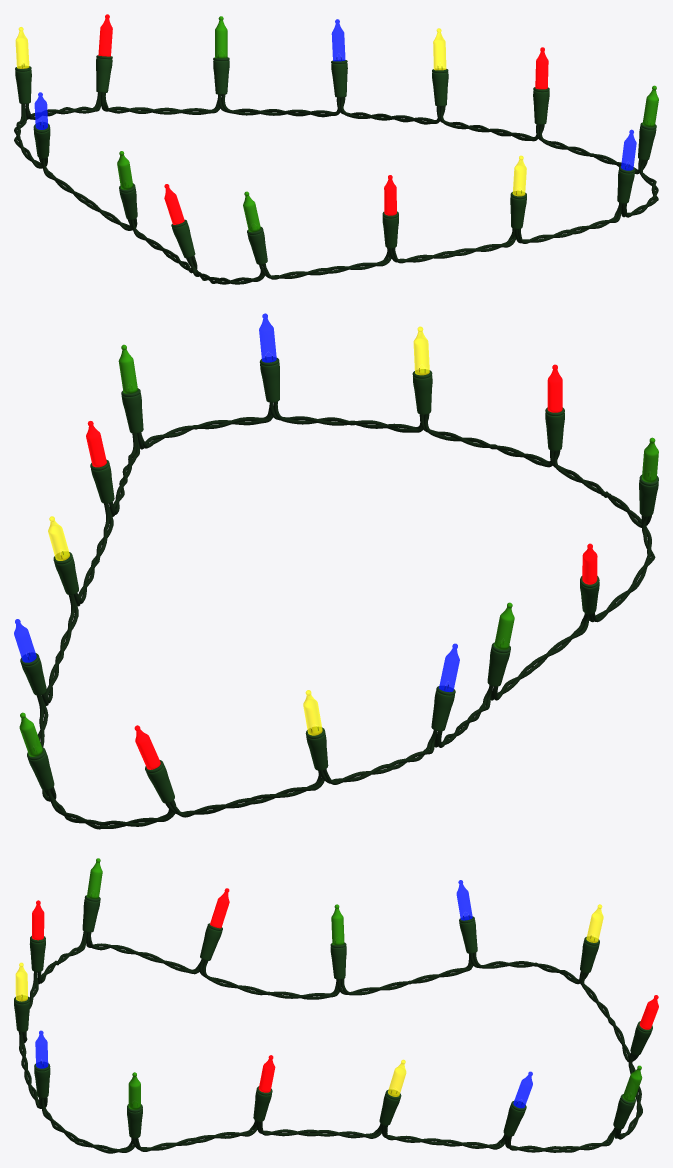
Rendered from christmas_lights_ring.glb.
3 renders of one model, top to bottom at view 1: azimuth 30°, elevation 25°; view 2: azimuth 150°, elevation 25°; view 3: azimuth 270°, elevation 25°, orthographic. The views are drawn at different scales.
Visible parts, largest first — view 1: Wire_0, Glass.008_9, Glass.009_10, Glass.006_7, Glass.007_8, Glass.010_11, Glass.002_3, Glass.005_6, Glass.011_12, Glass.001_2, Glass.012_13, Glass.013_14 (+3 smaller); view 2: Wire_0, Glass.004_5, Glass.011_12, Glass.012_13, Glass.013_14, Glass.014_15, Glass.003_4, Glass.010_11, Glass.006_7, Glass.005_6, Glass.007_8, Glass.009_10 (+3 smaller); view 3: Wire_0, Glass.002_3, Glass.003_4, Glass.001_2, Glass.004_5, Glass.014_15, Glass.005_6, Glass.013_14, Glass.008_9, Glass.009_10, Glass.012_13, Glass.010_11 (+3 smaller).
Part boxes in pixels (x1=…): Wire_0: x1=14, y1=92, x2=658, y2=284; Glass.008_9: x1=331, y1=19, x2=347, y2=97; Glass.009_10: x1=432, y1=28, x2=448, y2=106; Glass.006_7: x1=96, y1=14, x2=112, y2=92; Glass.007_8: x1=213, y1=16, x2=229, y2=94; Glass.010_11: x1=533, y1=47, x2=549, y2=124; Glass.002_3: x1=164, y1=184, x2=195, y2=258; Glass.005_6: x1=15, y1=27, x2=31, y2=103; Glass.011_12: x1=638, y1=85, x2=658, y2=160; Glass.001_2: x1=243, y1=191, x2=267, y2=264; Glass.012_13: x1=617, y1=129, x2=636, y2=203; Glass.013_14: x1=510, y1=155, x2=526, y2=229; Wire_0: x1=37, y1=401, x2=655, y2=829; Glass.004_5: x1=431, y1=643, x2=459, y2=731; Glass.011_12: x1=118, y1=344, x2=143, y2=433; Glass.012_13: x1=259, y1=313, x2=279, y2=402; Glass.013_14: x1=412, y1=326, x2=432, y2=414; Glass.014_15: x1=545, y1=364, x2=564, y2=451; Glass.003_4: x1=487, y1=602, x2=514, y2=686; Glass.010_11: x1=86, y1=421, x2=114, y2=503; Glass.006_7: x1=134, y1=725, x2=174, y2=803; Glass.005_6: x1=303, y1=690, x2=328, y2=770; Glass.007_8: x1=19, y1=712, x2=54, y2=790; Glass.009_10: x1=48, y1=516, x2=78, y2=595; Wire_0: x1=18, y1=931, x2=642, y2=1153; Glass.002_3: x1=200, y1=888, x2=229, y2=960; Glass.003_4: x1=330, y1=904, x2=346, y2=979; Glass.001_2: x1=82, y1=858, x2=102, y2=932; Glass.004_5: x1=456, y1=880, x2=477, y2=953; Glass.014_15: x1=29, y1=900, x2=45, y2=971; Glass.005_6: x1=580, y1=904, x2=603, y2=973; Glass.013_14: x1=14, y1=962, x2=29, y2=1032; Glass.008_9: x1=503, y1=1071, x2=532, y2=1136; Glass.009_10: x1=379, y1=1059, x2=406, y2=1125; Glass.012_13: x1=34, y1=1030, x2=50, y2=1098; Glass.010_11: x1=253, y1=1055, x2=275, y2=1121.
Size of the model in its own units: 0.5639 by 0.2229 by 0.7125.
